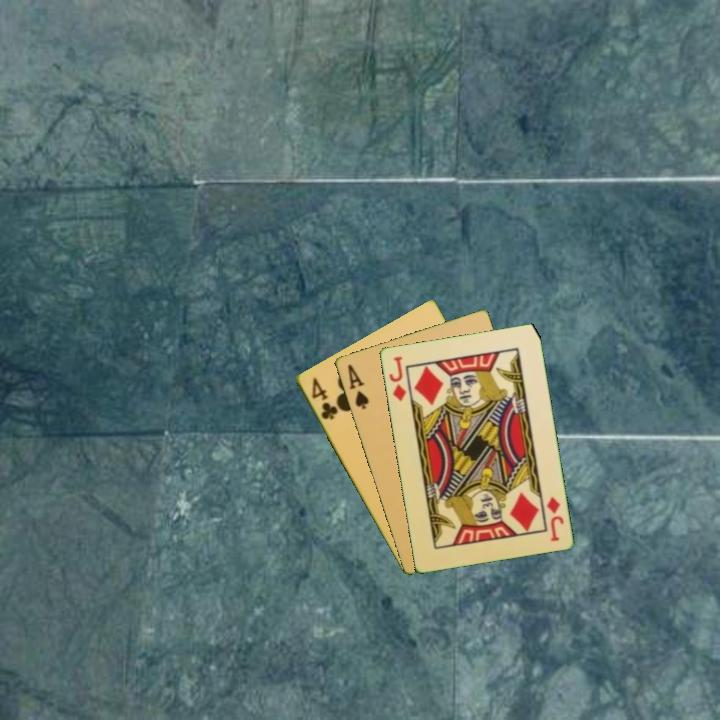4c: (308, 374, 341, 423)
As: (344, 360, 371, 412)
Jd: (385, 352, 409, 404), (543, 493, 566, 544)
